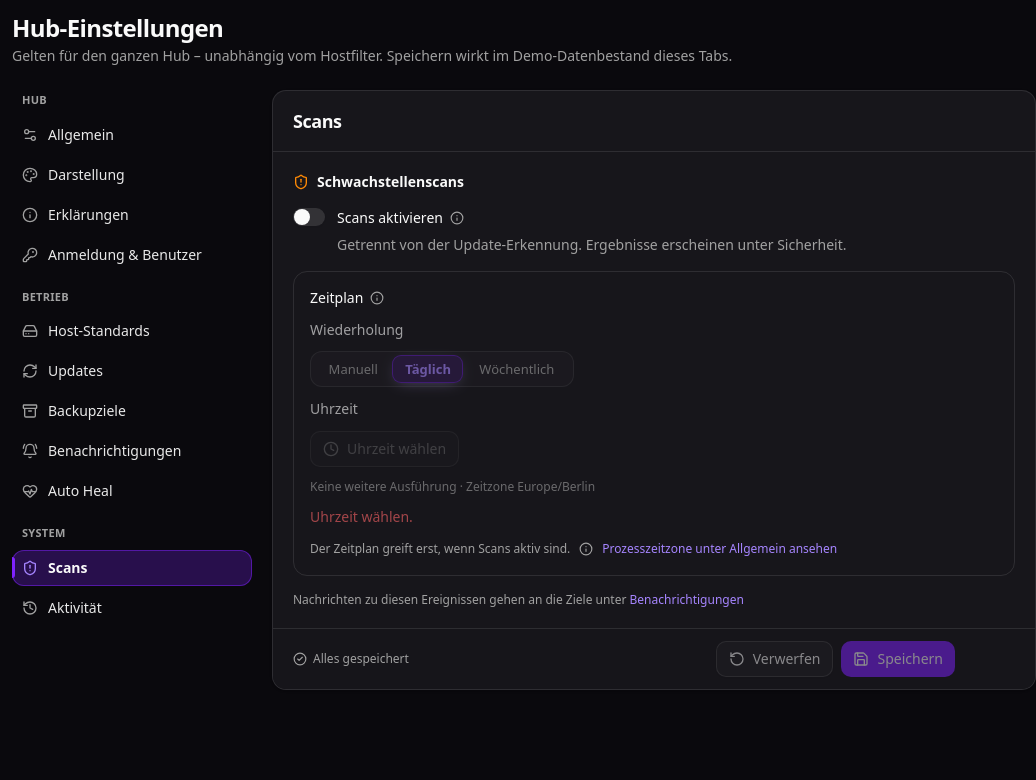
Test case: scan schedule settings › disables the schedule while scans are off, blocks invalid times and discards edits
Expected: the element "Wiederholung" is disabled, left=310, top=320, right=595, bottom=526
Click the switch named "Scans aktivieren" at (309, 217), box left=293, top=208, right=325, bottom=226
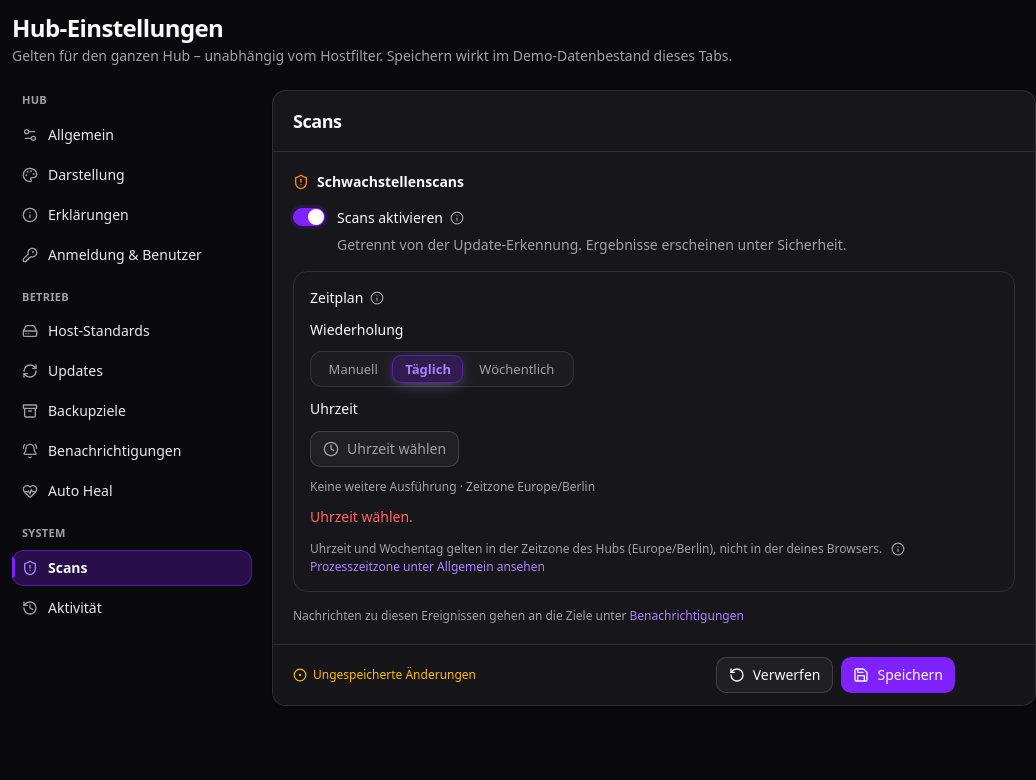
Click the button "Speichern" at (898, 674), box left=842, top=656, right=955, bottom=692
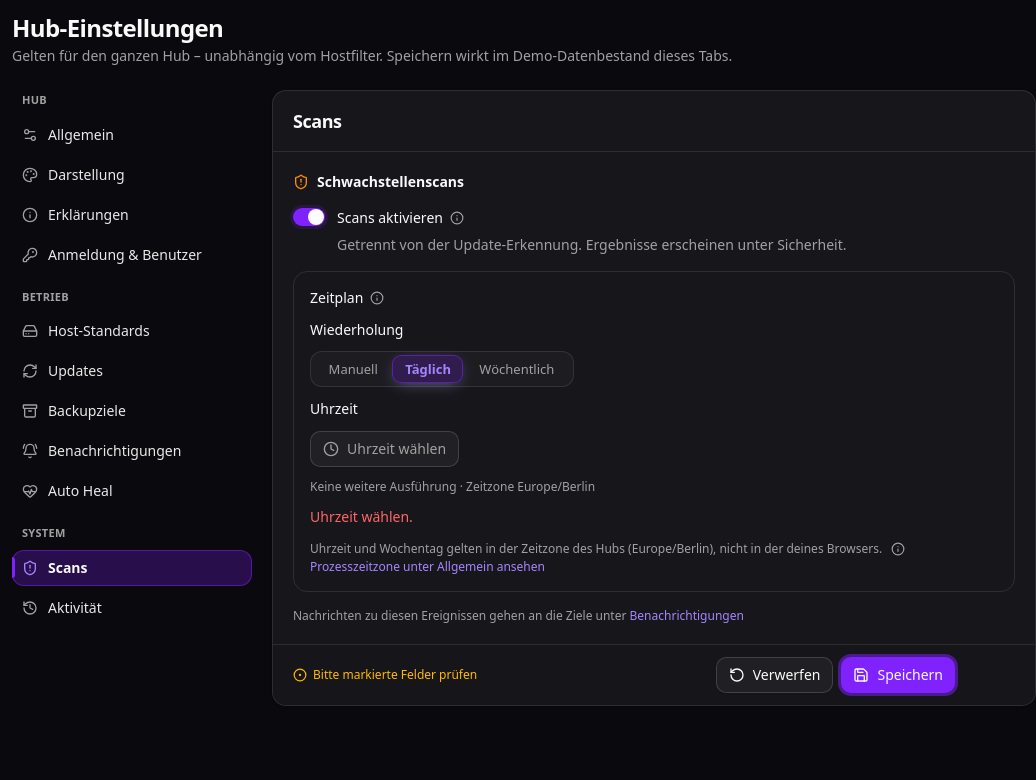
Expected: the message "Bitte markierte Felder prüfen" is shown, left=293, top=666, right=477, bottom=682
Click the button "Verwerfen" at (774, 674), box left=716, top=656, right=833, bottom=692
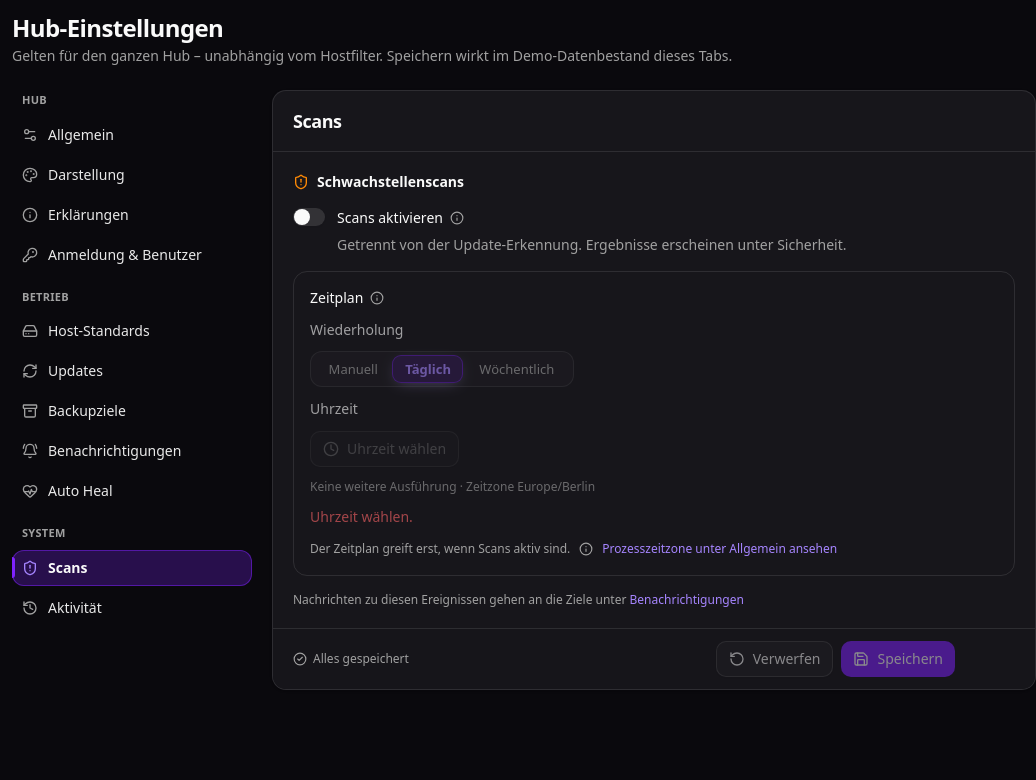
Expected: the message "Alles gespeichert" is shown, left=293, top=650, right=409, bottom=666
